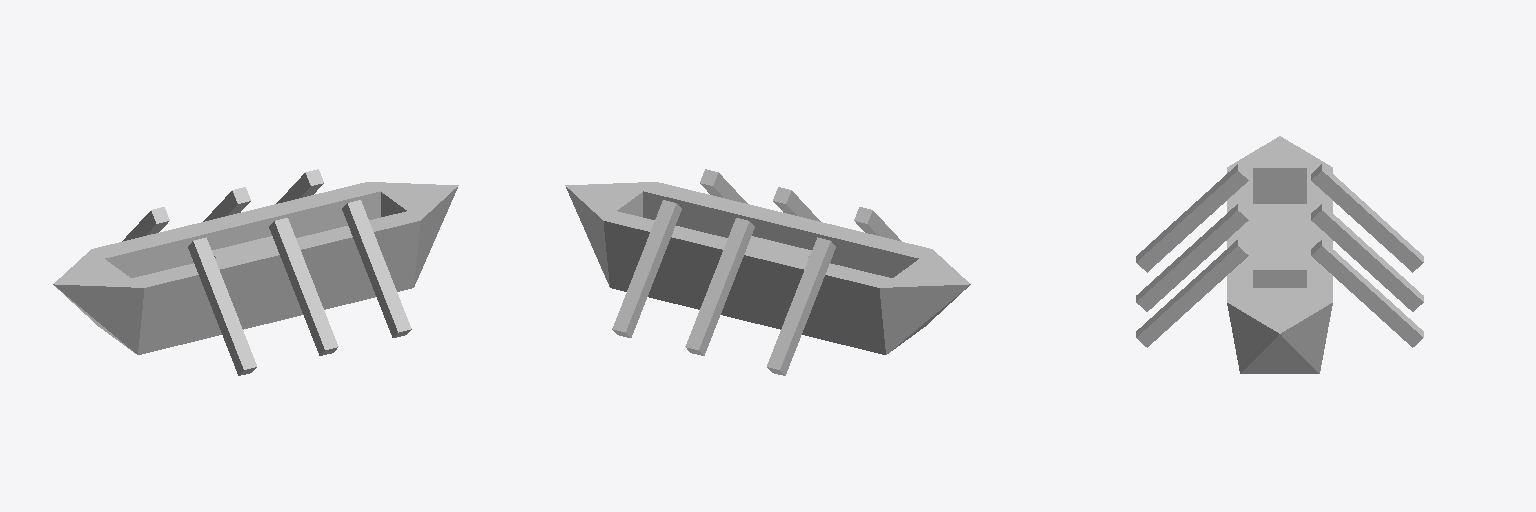
File: unit_boat.obj
3 renders of one model, left to right at view 1: azimuth 30°, elevation 25°; view 2: azimuth 150°, elevation 25°; view 3: azimuth 270°, elevation 25°, orthographic.
Parts seen in each view (by area): view 1: unit_boat, Group; view 2: unit_boat, Group; view 3: unit_boat, Group.
Boxes of the visible parts, x1,y1,x2,y2 form: unit_boat: [53, 182, 458, 354]; Group: [122, 169, 411, 375]; unit_boat: [565, 182, 970, 354]; Group: [612, 169, 901, 375]; unit_boat: [1227, 136, 1332, 373]; Group: [1136, 164, 1423, 347].
Size of the model in its own units: 0.645 by 0.1553 by 0.3959.